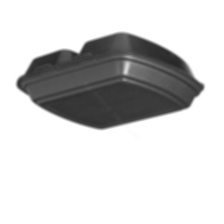foam_box: (11, 29, 208, 136)
